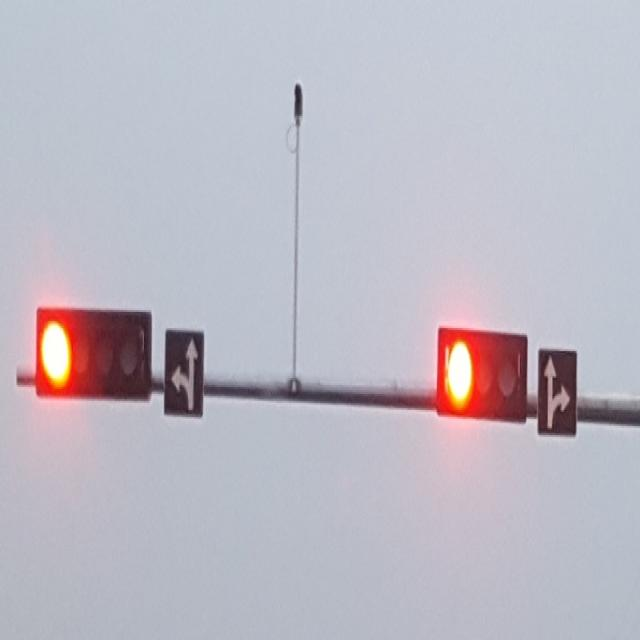red_light: (37, 306, 157, 404), (440, 326, 526, 426)
